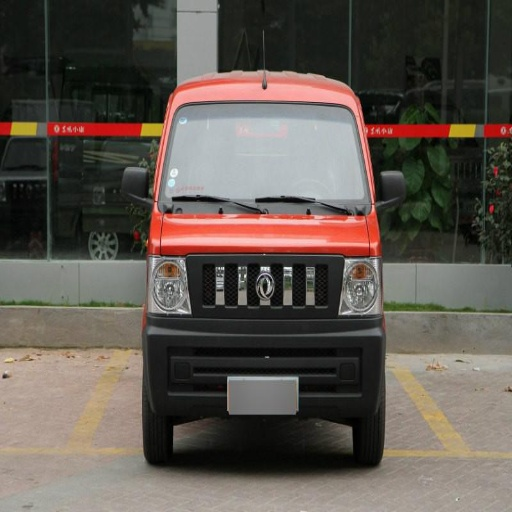front_bumper: (145, 255, 386, 422)
front_right_light: (152, 260, 188, 314)
hood: (161, 215, 370, 255)
